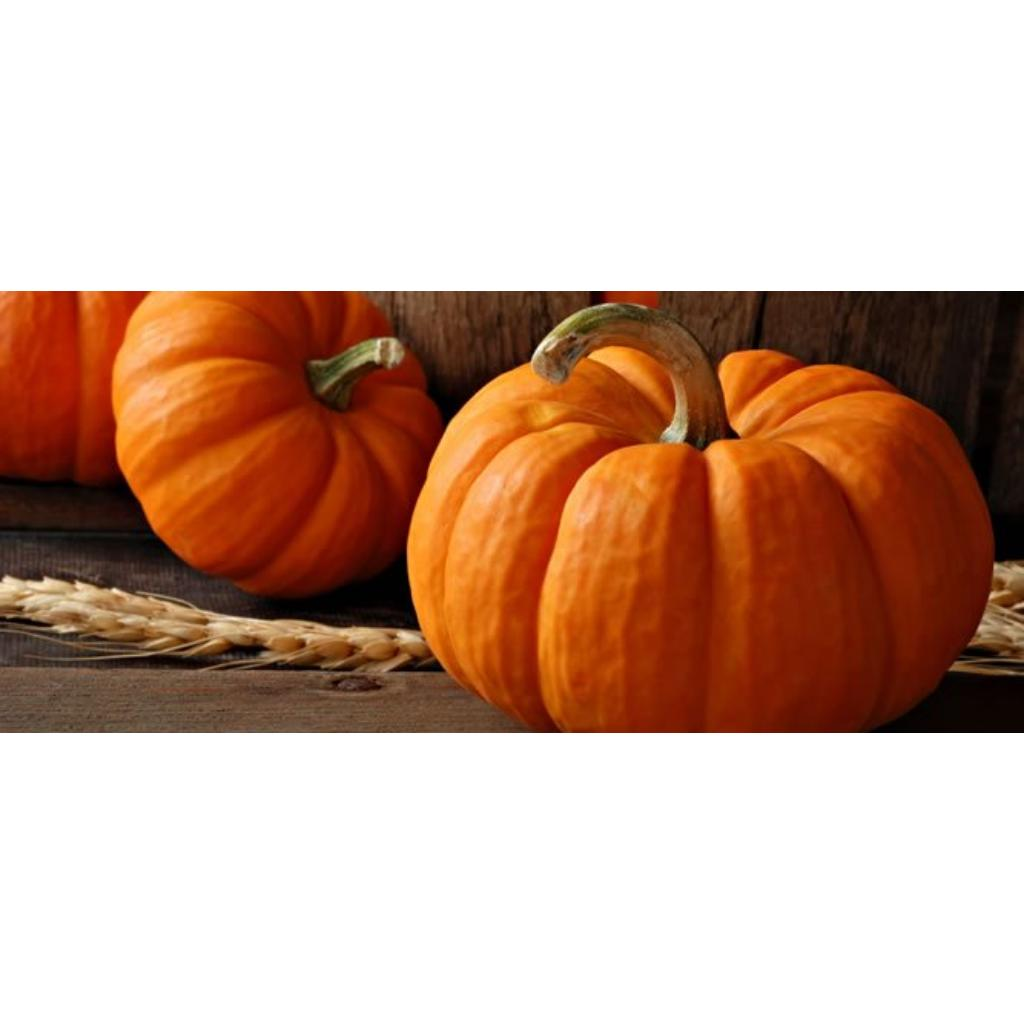pumpkin: (408, 305, 992, 731), (112, 291, 442, 596), (0, 291, 146, 484)
